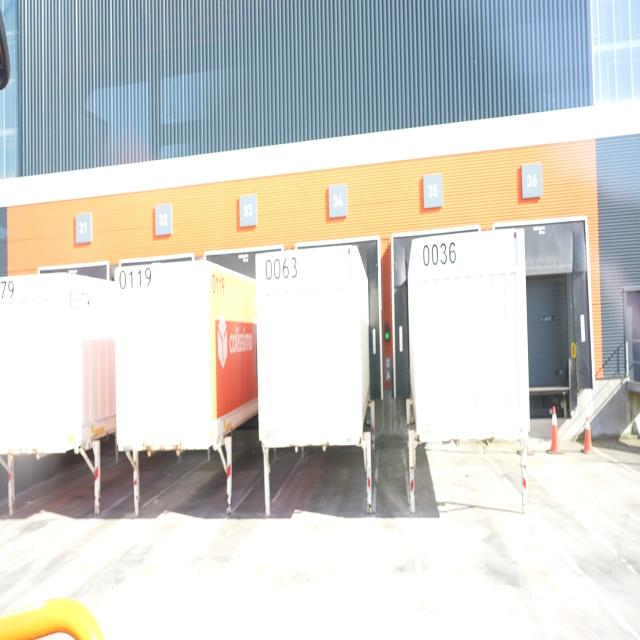Code: (419, 238, 456, 269), (264, 254, 300, 284), (116, 265, 153, 292)
